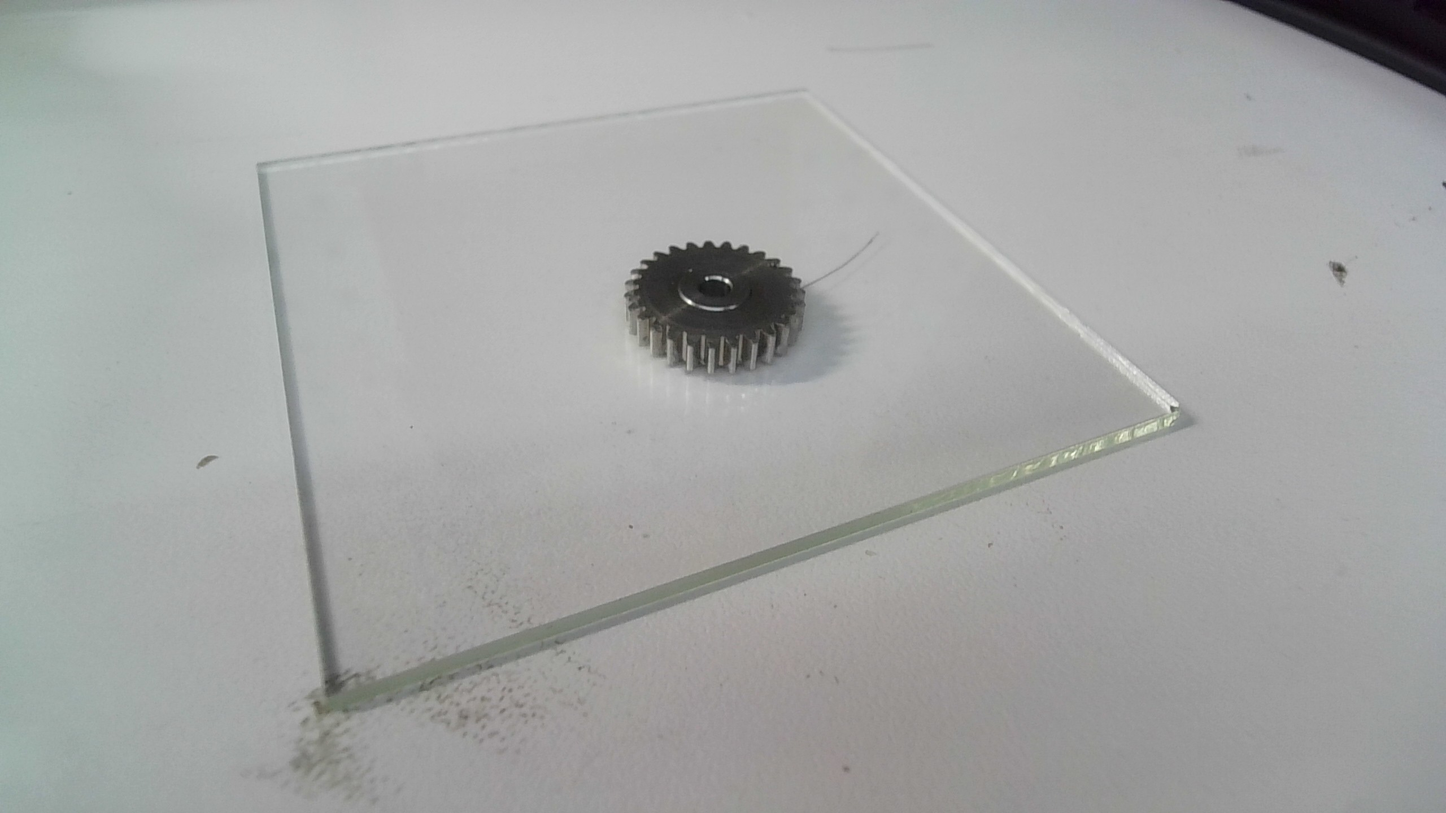gear: (622, 240, 806, 375)
